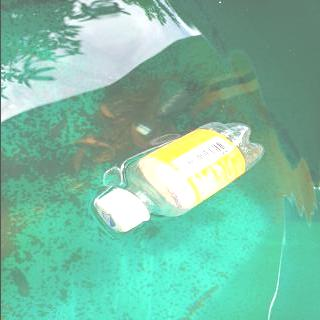bottle: (92, 120, 266, 234)
